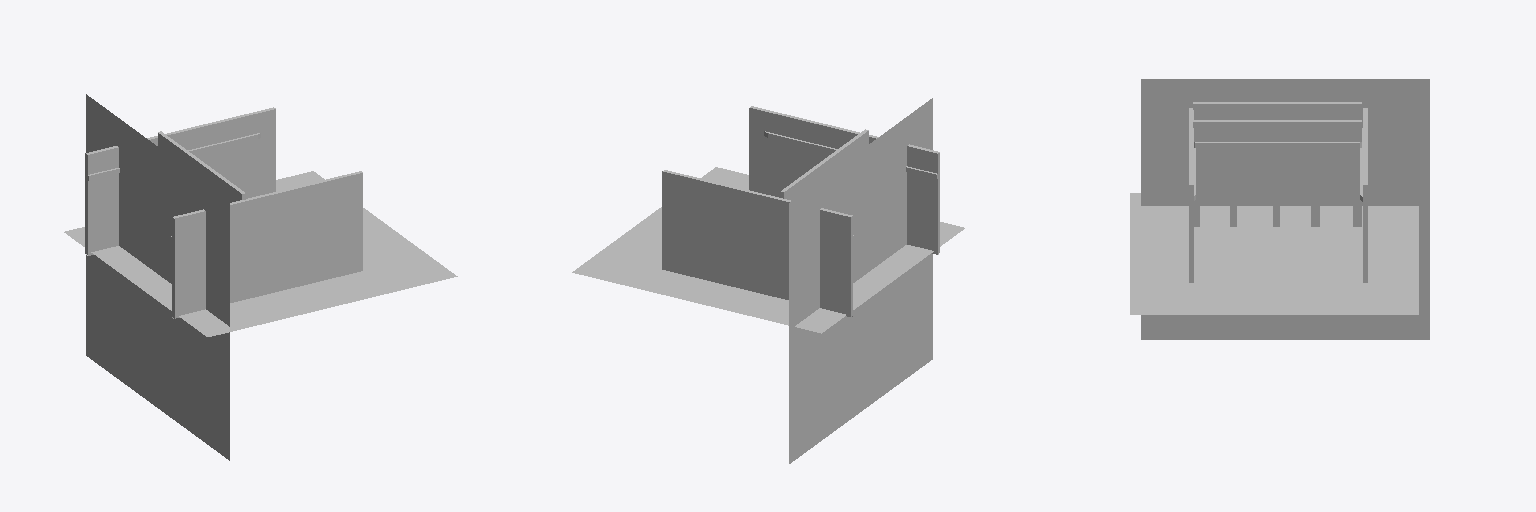
The model's file is escenario.obj.
3 renders of one model, left to right at view 1: azimuth 30°, elevation 25°; view 2: azimuth 150°, elevation 25°; view 3: azimuth 270°, elevation 25°, orthographic.
Parts seen in each view (by area): view 1: Plane; view 2: Plane; view 3: Plane.
Boxes of the visible parts, x1,y1,x2,y2 form: Plane: [64, 94, 457, 460]; Plane: [572, 98, 964, 463]; Plane: [1130, 79, 1429, 339].
Size of the model in its own units: 97.19 by 95.76 by 99.39.